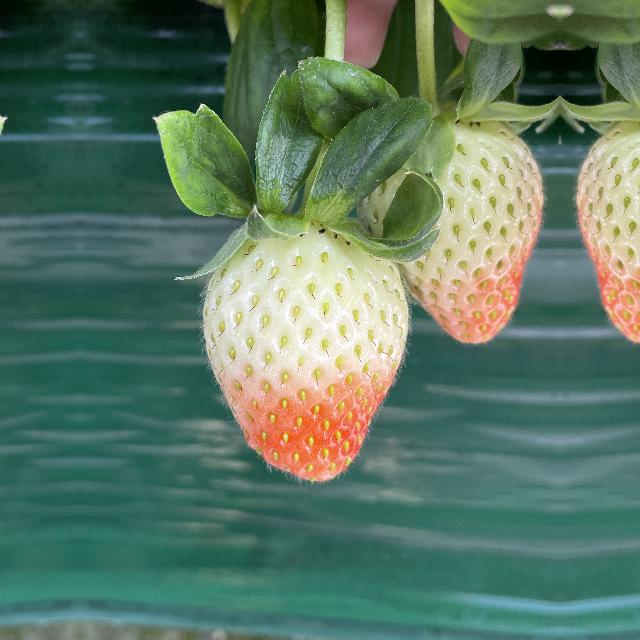Health_50: (186, 224, 427, 488), (350, 114, 550, 344), (570, 114, 640, 344)
